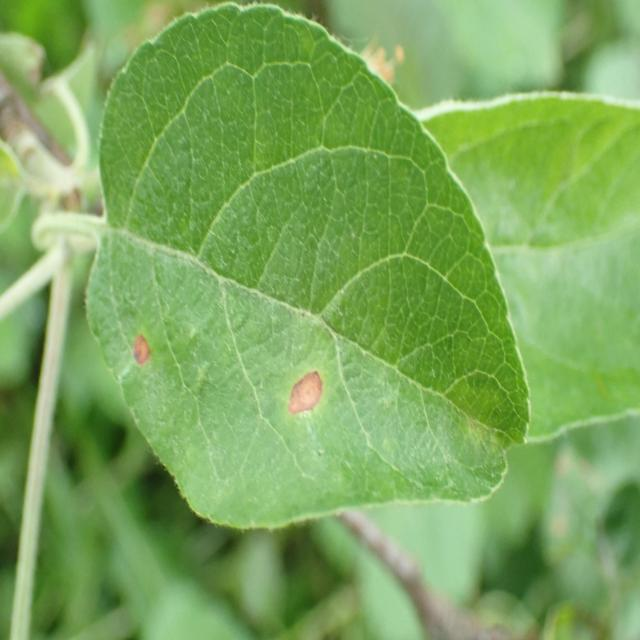Black Rot: (275, 356, 328, 424), (125, 308, 156, 389)
